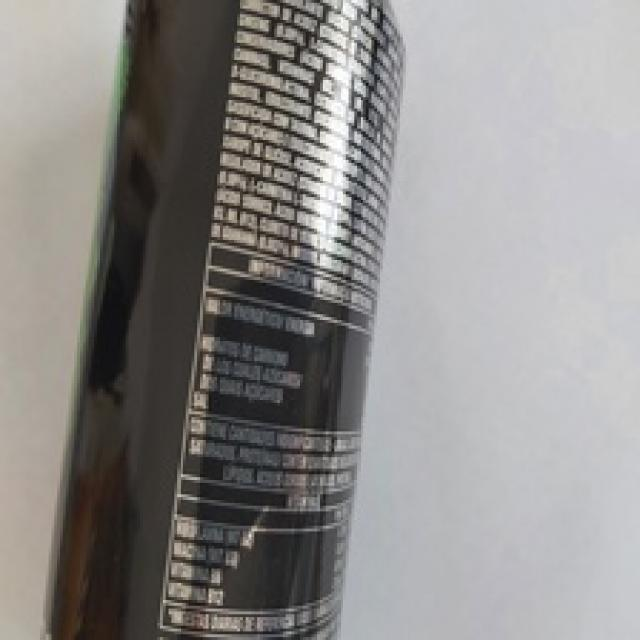recyclable: (47, 0, 404, 640)
